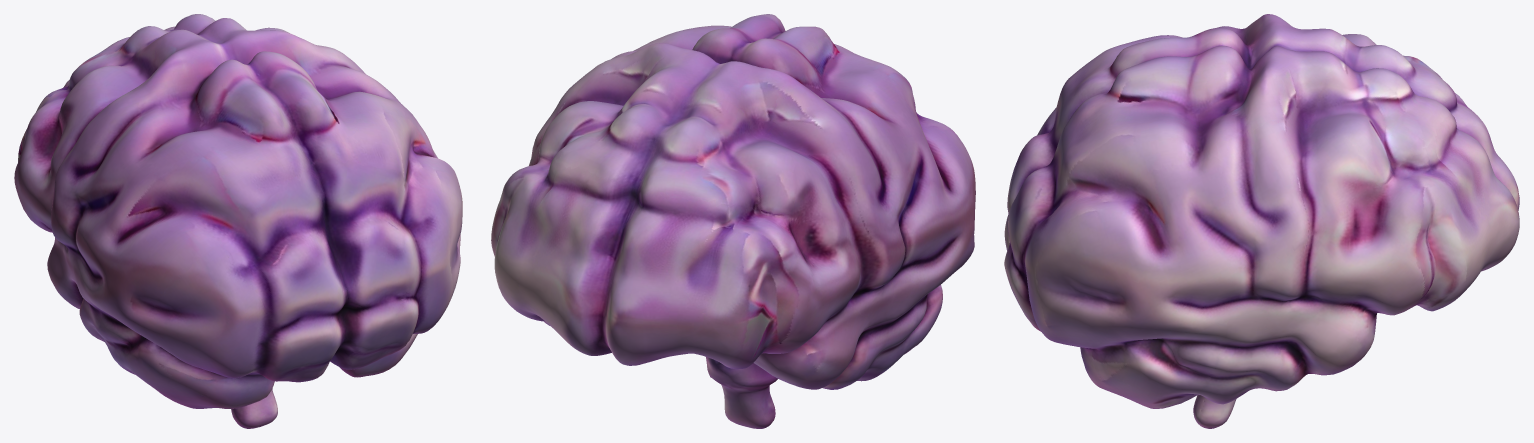
Rendered from asset.glb.
The picture shows the model from 3 angles, left to right: view 1: azimuth 30°, elevation 25°; view 2: azimuth 150°, elevation 25°; view 3: azimuth 270°, elevation 25°; orthographic projection. The views are drawn at different scales.
Visible parts, largest first — view 1: Object_4; view 2: Object_4; view 3: Object_4.
Part boxes in pixels (x1=…): Object_4: x1=14, y1=14, x2=462, y2=428; Object_4: x1=491, y1=14, x2=975, y2=428; Object_4: x1=1004, y1=14, x2=1519, y2=428.
Size of the model in its own units: 0.616 by 0.6165 by 0.7477.
Materials: 1 (1 with a texture image).
